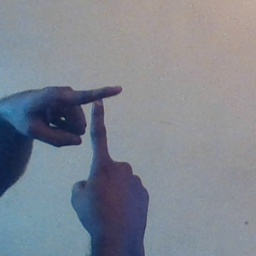T: (48, 76, 146, 197)
